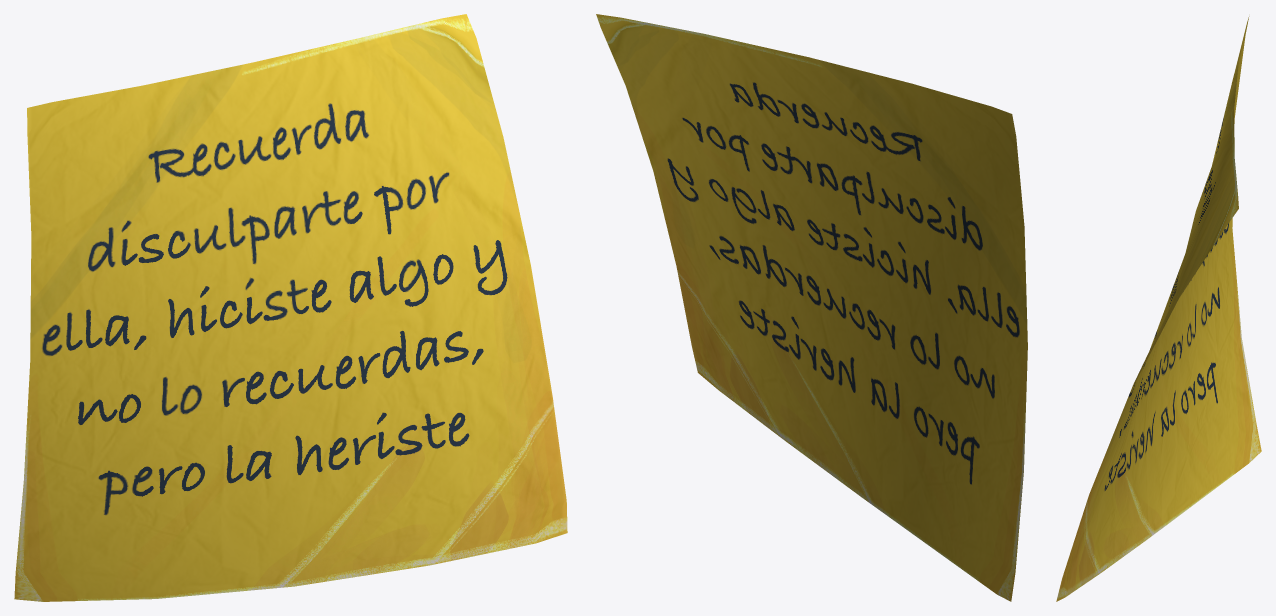
The model's file is postit4.fbx.
The picture shows the model from 3 angles, left to right: view 1: azimuth 30°, elevation 25°; view 2: azimuth 150°, elevation 25°; view 3: azimuth 270°, elevation 25°; orthographic projection. The views are drawn at different scales.
Visible parts, largest first — view 1: Plane; view 2: Plane; view 3: Plane.
Boxes of the visible parts, bbox=[...] form: Plane: bbox=[14, 14, 567, 601]; Plane: bbox=[596, 14, 1027, 601]; Plane: bbox=[1056, 16, 1261, 601].
Size of the model in its own units: 74.78 by 80.22 by 33.68.
1 material, 1 textured.
